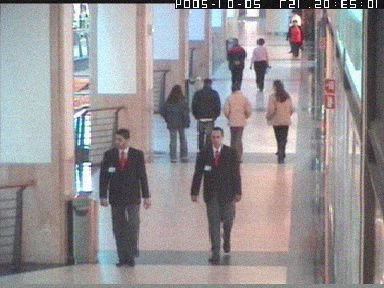person: (99, 128, 152, 267), (189, 126, 241, 261), (265, 80, 294, 164), (191, 77, 220, 160), (158, 85, 188, 161), (224, 83, 251, 163), (251, 36, 272, 91), (226, 37, 246, 91), (285, 9, 304, 53), (286, 19, 304, 57)
